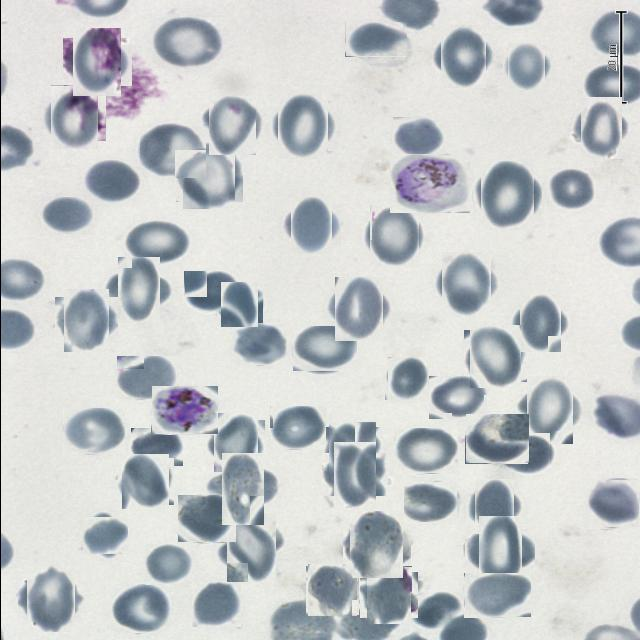difficult: (389, 154, 469, 213)
red blood cell: (476, 164, 538, 226), (150, 17, 222, 69), (346, 514, 406, 575), (178, 146, 238, 206), (140, 124, 206, 178), (221, 517, 280, 577), (274, 96, 332, 156), (436, 255, 494, 313), (470, 522, 528, 580), (466, 327, 524, 385), (68, 33, 126, 91), (212, 460, 270, 518), (21, 570, 79, 627), (520, 381, 578, 438), (464, 414, 528, 464), (331, 280, 386, 338), (365, 208, 421, 264), (110, 584, 173, 633), (46, 89, 101, 145), (436, 28, 490, 84), (326, 448, 382, 502), (123, 220, 190, 265), (463, 573, 530, 618), (291, 326, 356, 372), (58, 293, 113, 347), (111, 263, 166, 317), (393, 428, 457, 474), (62, 408, 124, 455), (325, 424, 378, 478), (205, 98, 258, 152), (176, 495, 235, 543), (115, 356, 177, 400), (208, 416, 260, 468), (119, 456, 171, 508), (574, 102, 626, 154), (362, 569, 414, 621), (306, 565, 357, 616), (427, 376, 486, 420), (82, 160, 140, 204), (268, 406, 325, 450), (514, 298, 564, 348), (286, 200, 336, 250), (588, 479, 638, 528), (230, 323, 286, 366), (183, 271, 238, 313), (470, 482, 518, 530), (192, 581, 242, 627), (403, 482, 458, 522), (344, 22, 406, 57), (546, 168, 595, 211), (496, 433, 550, 472), (144, 544, 194, 585), (392, 117, 444, 156), (130, 428, 182, 466), (39, 197, 92, 234), (386, 358, 430, 402), (505, 46, 547, 88), (410, 592, 458, 628), (84, 514, 125, 556), (218, 284, 260, 325)
schizont: (150, 386, 217, 435)
